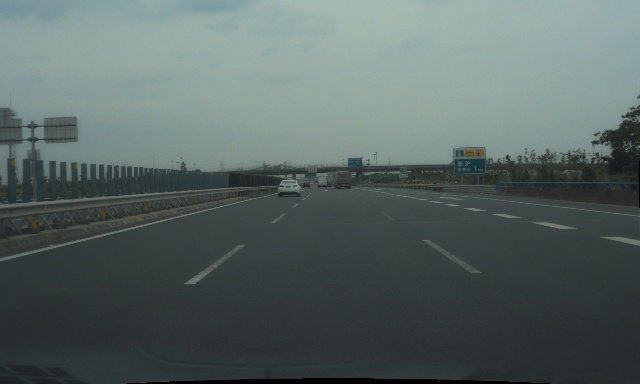car: (277, 179, 301, 197), (317, 176, 327, 188), (302, 180, 310, 188)
truck: (335, 171, 351, 189), (327, 171, 338, 187)
